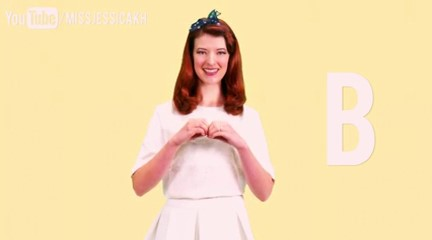B: (170, 114, 239, 154)
